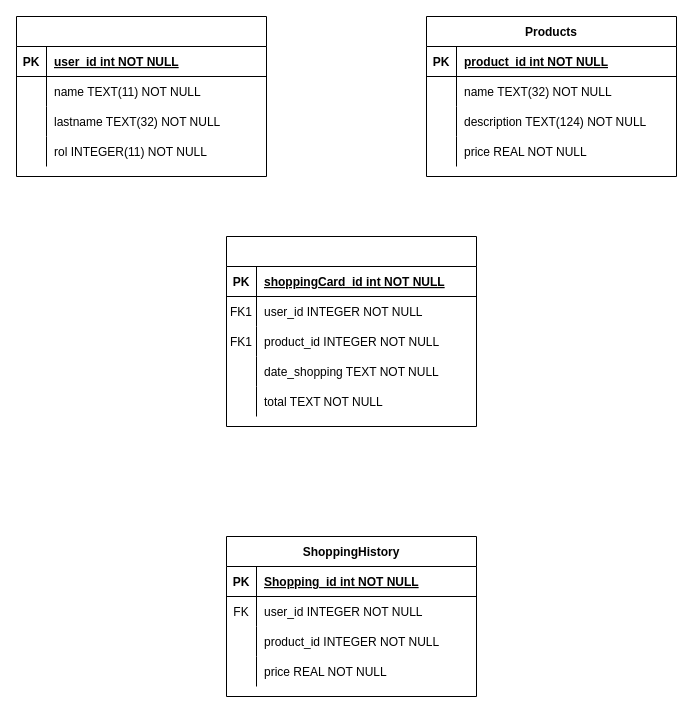
Some shapes in this 693 by 713 pixel diagram are drawn without their labels. The shapes that lost their labels are listed below. From the top down, each one's box as (x1, y1, x2, y2) in pixels, then its label:
(16, 16, 266, 176): Users
(226, 236, 476, 426): ShoppingCart
